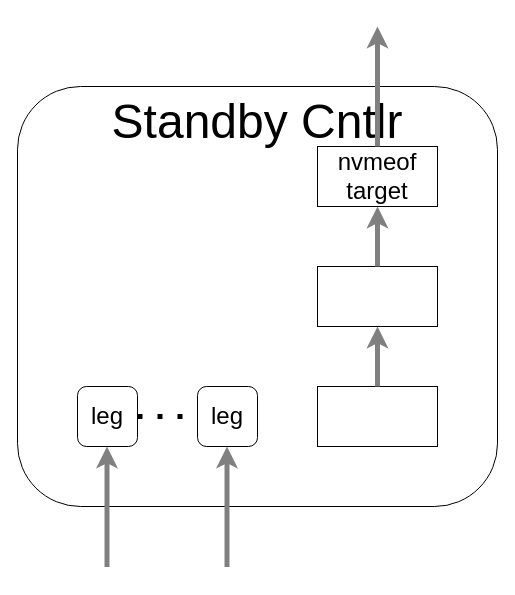
The diagram is 515 pixels wide and 595 high, and some of its shapes have lost their labels. The centre of each missing label's shape, as x and y in pixels:
dm-delay: the point at 377,296
dm-error: the point at 377,416
